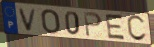0: (64, 10, 81, 37)
C: (126, 14, 148, 42)
E: (104, 13, 127, 41)
O: (40, 8, 62, 35)
P: (83, 11, 104, 39)
V: (18, 7, 38, 33)
